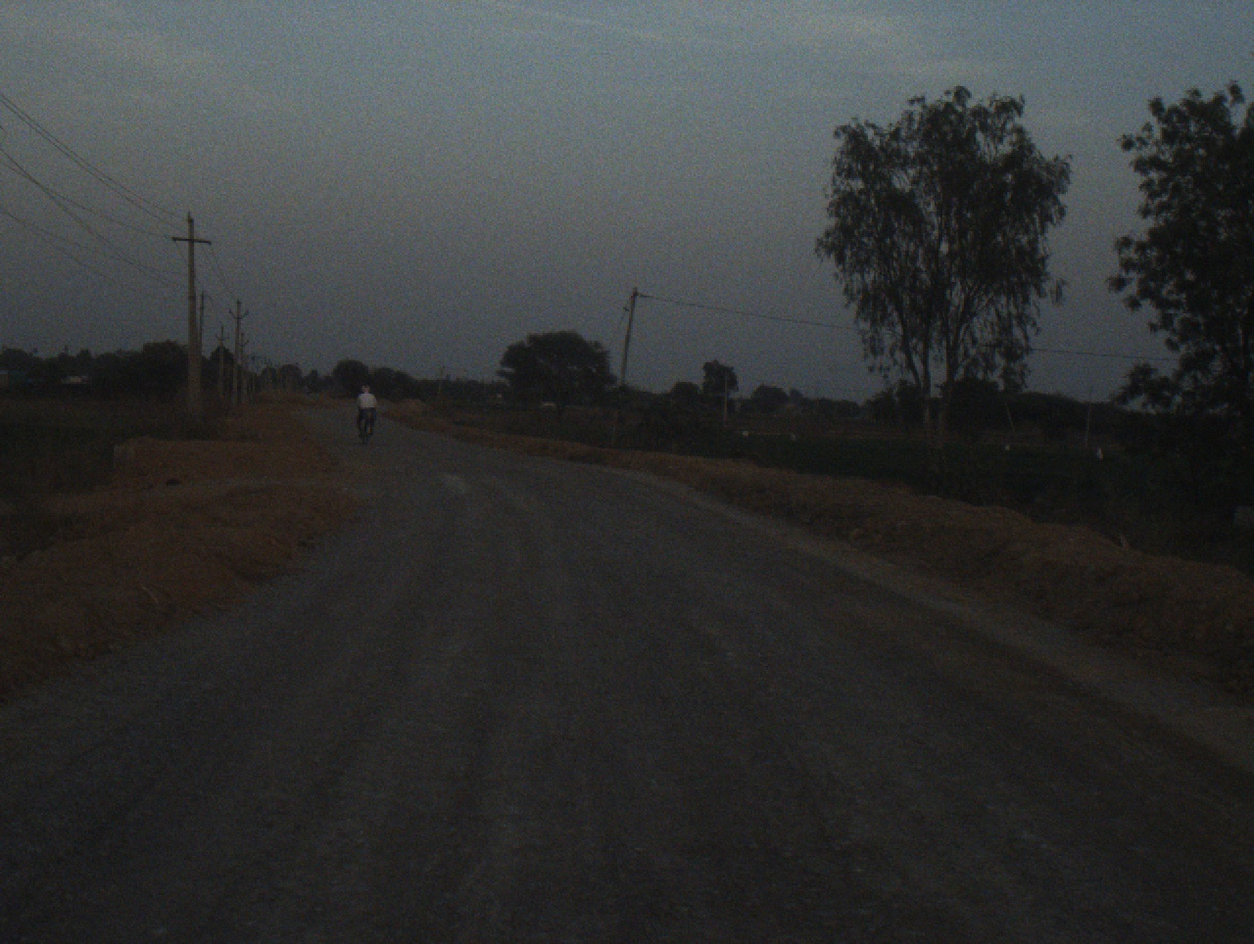bicycle: (356, 401, 379, 446)
rider: (353, 381, 379, 440)
